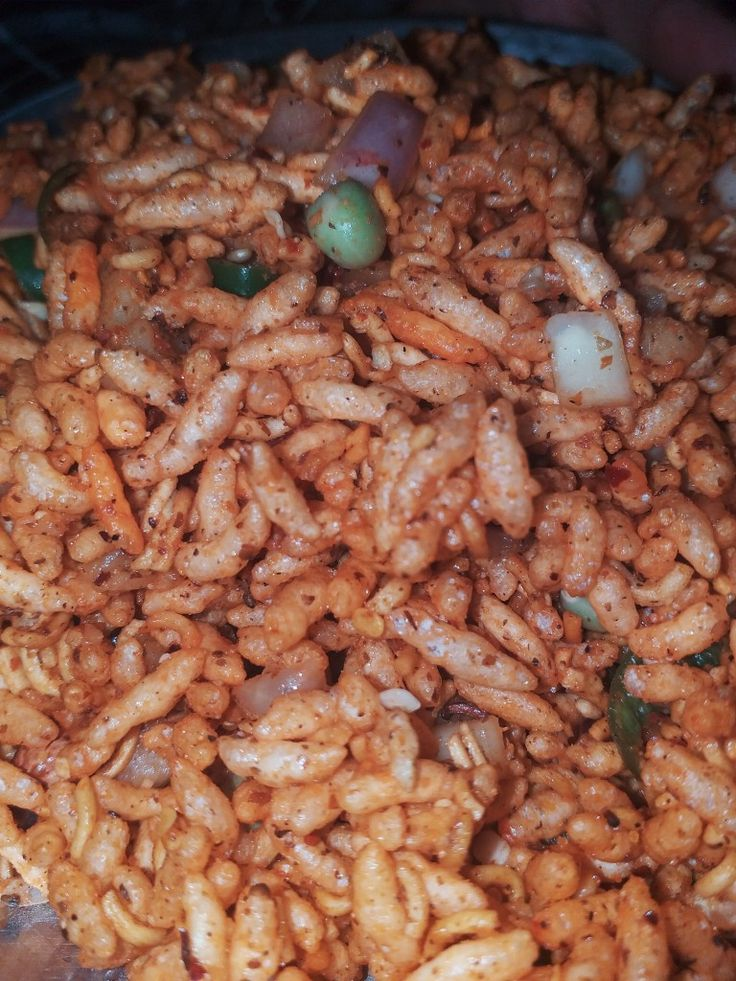chatpate: (17, 70, 710, 940)
